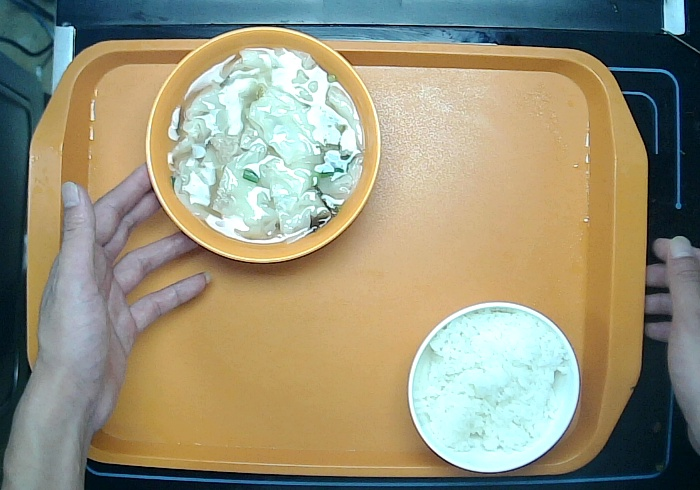NLDX-Fan_Wan: (405, 300, 580, 474)
NLDX-Hun_Tun_Wan: (143, 23, 383, 264)
